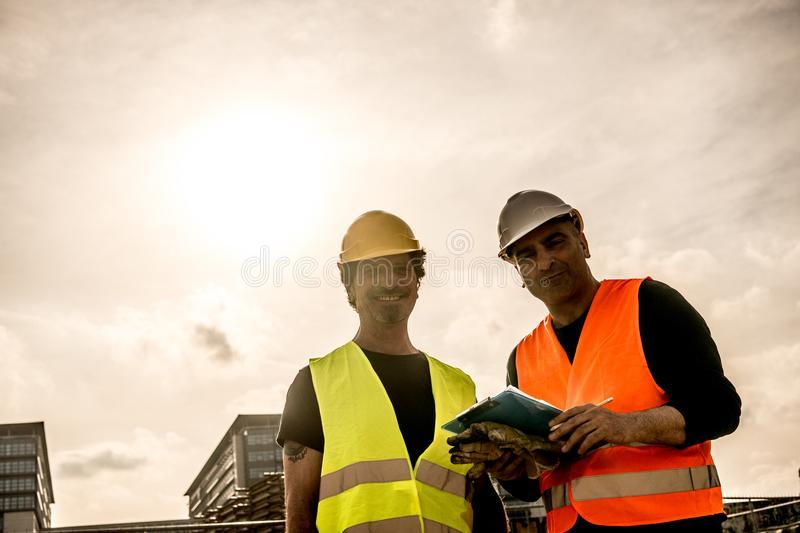helmet: (497, 189, 587, 261), (337, 211, 427, 267)
